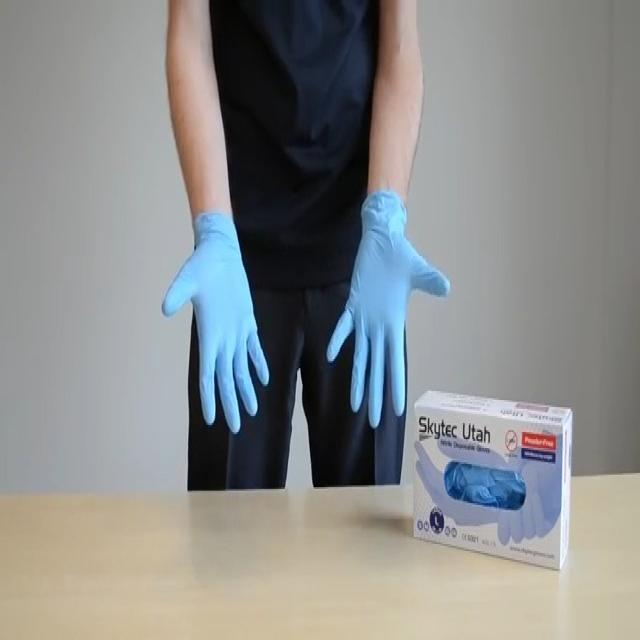Gloves: (327, 194, 449, 431), (163, 218, 276, 433)
